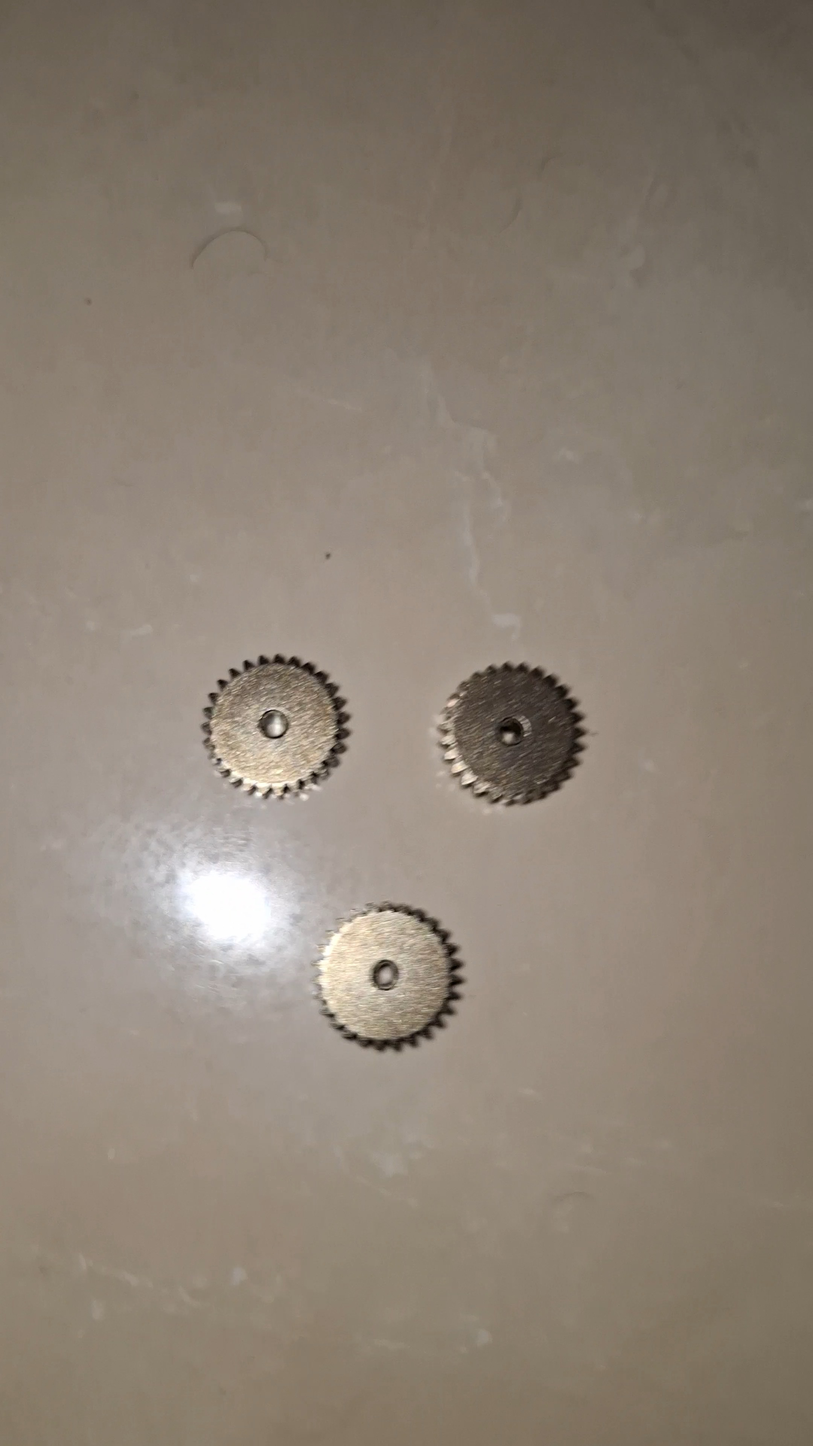spur gear: (318, 903, 460, 1049), (204, 655, 347, 796), (440, 664, 583, 803)
